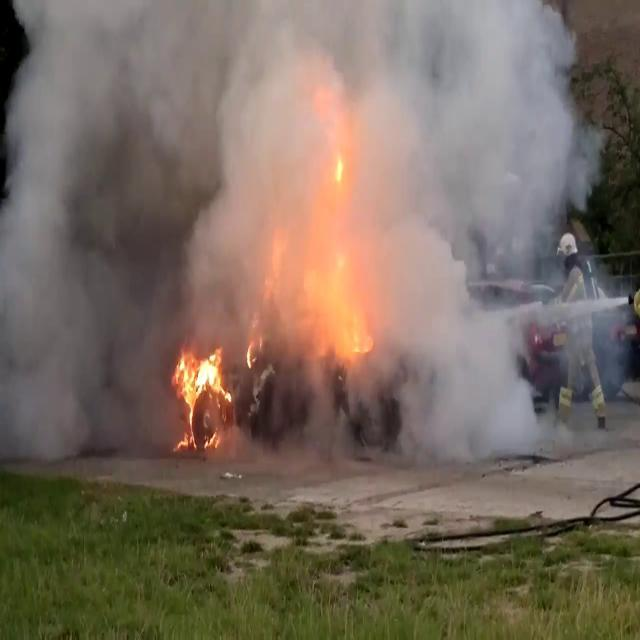Fire: (296, 166, 376, 371), (170, 340, 230, 446)
Smoke: (1, 1, 610, 457)
